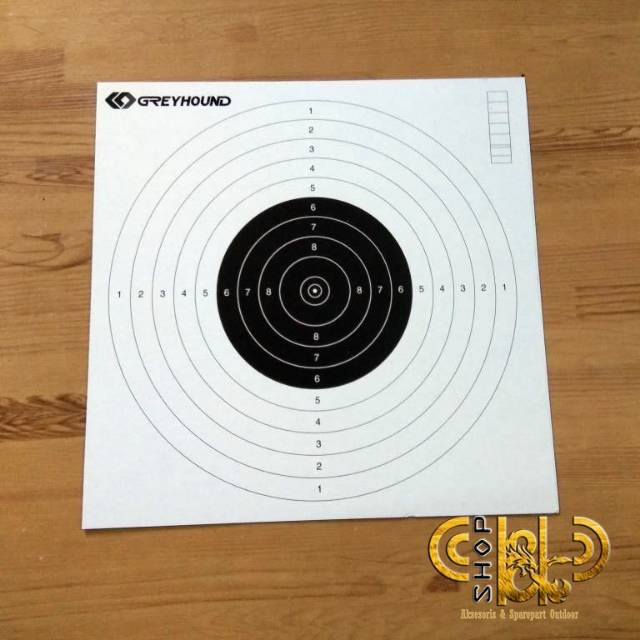target: (85, 83, 532, 512)
